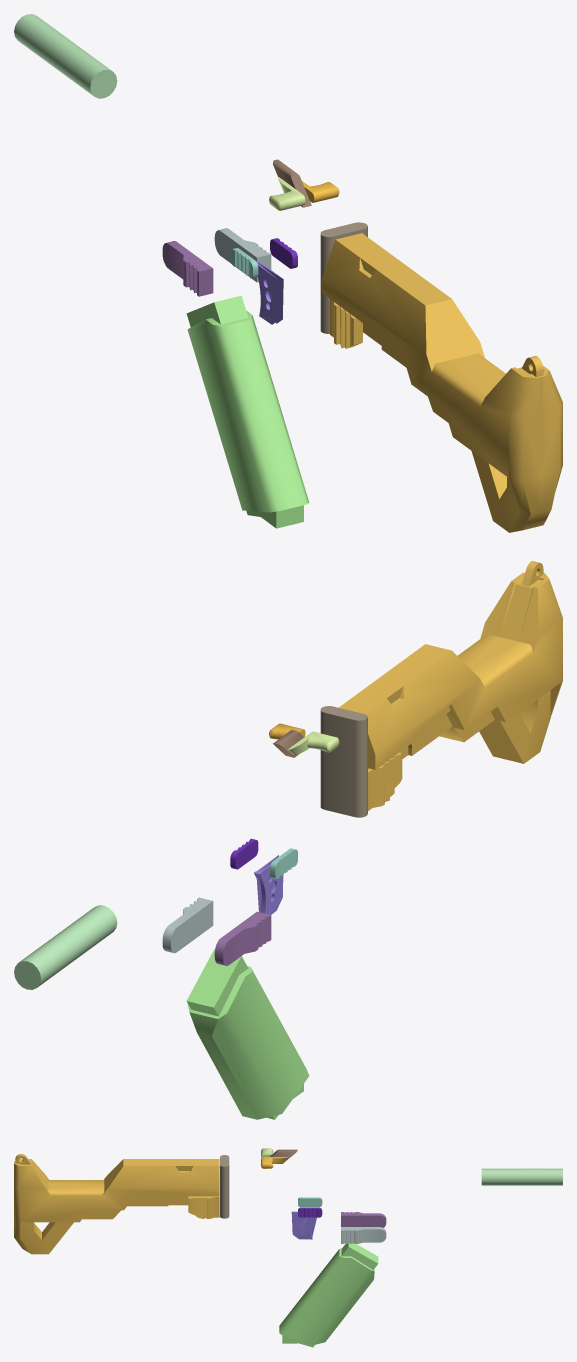
3 views of the same model, one above another, from view 1: azimuth 30°, elevation 25°; view 2: azimuth 150°, elevation 25°; view 3: azimuth 270°, elevation 25° (orthographic). The views are drawn at different scales.
Visible parts, largest first — view 1: Smg_Default OBJ.000_0.063, Smg_Default OBJ.000_0.140, Smg_Default OBJ.000_0.081, Smg_Default OBJ.000_0.001, Smg_Default OBJ.000_0.494, split_parent_2, Smg_Default OBJ.000_0.014, Smg_Default OBJ.000_0.155; view 2: Smg_Default OBJ.000_0.063, Smg_Default OBJ.000_0.140, Smg_Default OBJ.000_0.494, Smg_Default OBJ.000_0.081, Smg_Default OBJ.000_0.001, Smg_Default OBJ.000_0.014, split_parent_2, Smg_Default OBJ.000_0.155; view 3: Smg_Default OBJ.000_0.063, Smg_Default OBJ.000_0.140, Smg_Default OBJ.000_0.081, Smg_Default OBJ.000_0.014, Smg_Default OBJ.000_0.001, Smg_Default OBJ.000_0.494, split_parent_2.
Boxes of the visible parts, left/top/right/bottom form: Smg_Default OBJ.000_0.063: left=322, top=233, right=562, bottom=532; Smg_Default OBJ.000_0.140: left=186, top=295, right=309, bottom=528; Smg_Default OBJ.000_0.081: left=14, top=14, right=117, bottom=98; Smg_Default OBJ.000_0.001: left=162, top=241, right=213, bottom=296; Smg_Default OBJ.000_0.494: left=320, top=222, right=367, bottom=333; split_parent_2: left=256, top=261, right=283, bottom=324; Smg_Default OBJ.000_0.014: left=214, top=228, right=271, bottom=282; Smg_Default OBJ.000_0.155: left=269, top=177, right=305, bottom=210; Smg_Default OBJ.000_0.063: left=338, top=561, right=562, bottom=810; Smg_Default OBJ.000_0.140: left=186, top=949, right=309, bottom=1119; Smg_Default OBJ.000_0.494: left=320, top=706, right=367, bottom=817; Smg_Default OBJ.000_0.081: left=14, top=905, right=117, bottom=989; Smg_Default OBJ.000_0.001: left=214, top=911, right=271, bottom=965; Smg_Default OBJ.000_0.014: left=162, top=897, right=213, bottom=953; split_parent_2: left=254, top=855, right=283, bottom=914; Smg_Default OBJ.000_0.155: left=288, top=731, right=339, bottom=755; Smg_Default OBJ.000_0.063: left=14, top=1154, right=219, bottom=1254; Smg_Default OBJ.000_0.140: left=279, top=1243, right=378, bottom=1347; Smg_Default OBJ.000_0.081: left=481, top=1168, right=562, bottom=1185; Smg_Default OBJ.000_0.014: left=341, top=1227, right=386, bottom=1243; Smg_Default OBJ.000_0.001: left=341, top=1212, right=386, bottom=1227; Smg_Default OBJ.000_0.494: left=220, top=1155, right=229, bottom=1218; split_parent_2: left=291, top=1211, right=316, bottom=1239.
Size of the model in its own units: 0.0776 by 0.3718 by 0.9553.
